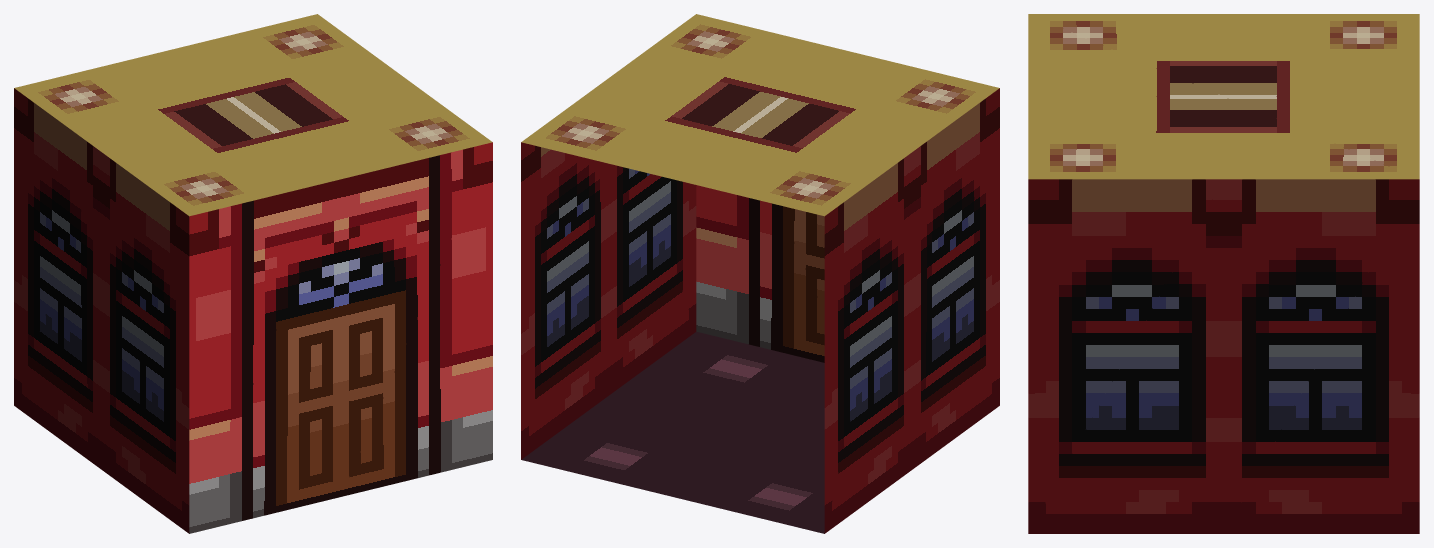
The model's file is falling_2.obj.
The picture shows the model from 3 angles, left to right: view 1: azimuth 30°, elevation 25°; view 2: azimuth 150°, elevation 25°; view 3: azimuth 270°, elevation 25°; orthographic projection. The views are drawn at different scales.
Visible parts, largest first — view 1: falling_2_part0, falling_2_part2, falling_2_part1; view 2: falling_2_part2, falling_2_part1, falling_2_part0; view 3: falling_2_part2, falling_2_part1.
Part boxes in pixels (x1,y1,x2,y2): falling_2_part0: (189,142,492,533); falling_2_part2: (14,88,189,533); falling_2_part1: (14,14,492,216); falling_2_part2: (521,88,999,533); falling_2_part1: (521,14,999,533); falling_2_part0: (696,185,824,362); falling_2_part2: (1028,179,1419,533); falling_2_part1: (1028,14,1419,179).
Bounding box in the file's own units: 256 × 256 × 256.
Materials: 3 (3 with a texture image).
